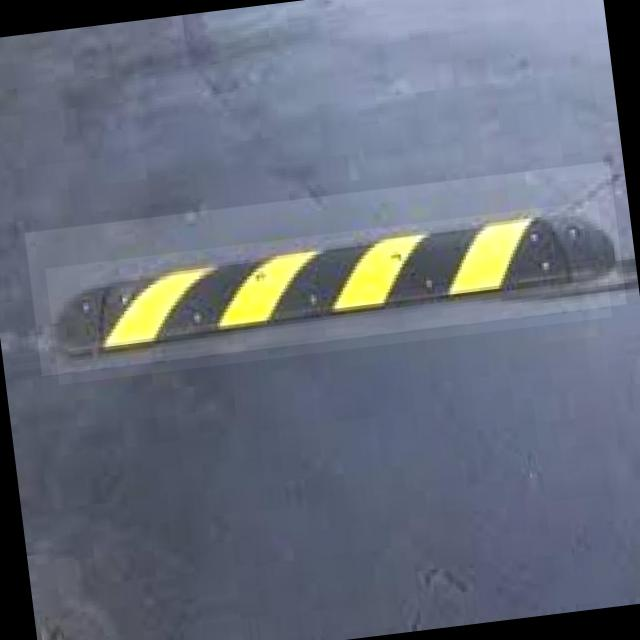bump: (44, 200, 612, 384)
